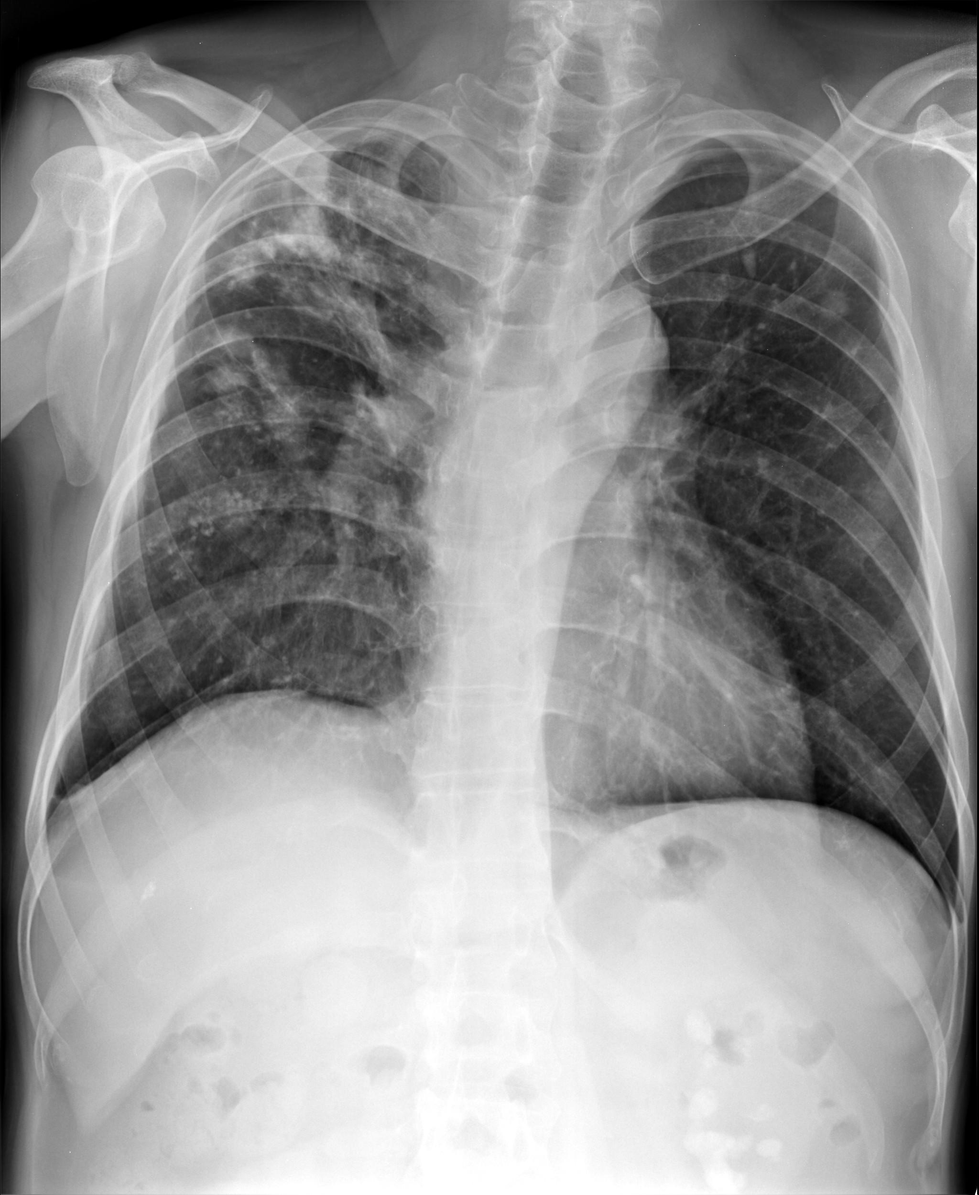Pleural thickening: (43, 774, 75, 811)
Pulmonary fibrosis: (149, 165, 427, 585), (696, 242, 861, 424)
